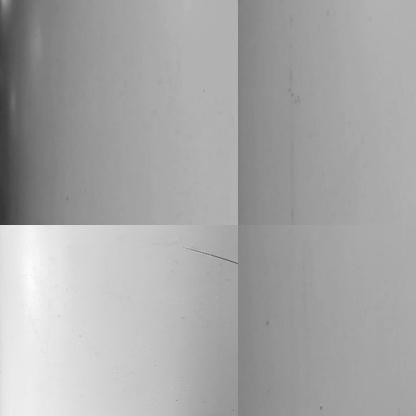sunshang: (185, 240, 237, 266)
